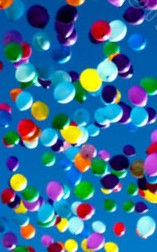Balloon: (27, 4, 49, 29), (79, 68, 102, 91), (53, 83, 76, 105), (97, 60, 118, 82), (123, 6, 145, 26), (137, 215, 157, 236), (56, 4, 78, 23), (91, 20, 110, 41), (51, 45, 72, 64), (127, 85, 146, 105), (15, 63, 35, 82), (3, 42, 22, 62), (74, 181, 95, 199), (33, 32, 51, 53), (6, 1, 24, 22), (131, 105, 148, 127), (127, 32, 147, 50), (40, 128, 58, 148), (46, 180, 64, 200), (110, 21, 127, 42), (15, 90, 31, 112), (10, 174, 28, 193), (113, 54, 130, 73), (67, 216, 84, 235), (32, 100, 48, 120), (37, 203, 54, 221), (3, 231, 18, 251), (140, 77, 157, 94), (51, 113, 68, 130), (105, 105, 122, 122), (77, 203, 94, 220), (87, 233, 104, 250), (110, 155, 129, 170), (12, 213, 31, 228), (74, 154, 90, 171), (145, 153, 157, 175), (102, 86, 117, 103), (74, 108, 89, 124), (4, 131, 20, 146), (20, 225, 36, 240), (92, 159, 106, 175), (1, 110, 12, 130), (6, 156, 19, 172), (81, 144, 97, 157), (92, 220, 106, 234), (113, 222, 126, 237), (42, 152, 55, 166), (64, 239, 78, 252), (104, 199, 117, 212), (104, 241, 119, 252), (136, 201, 149, 213), (123, 144, 136, 155), (122, 201, 135, 212), (127, 184, 137, 196)
